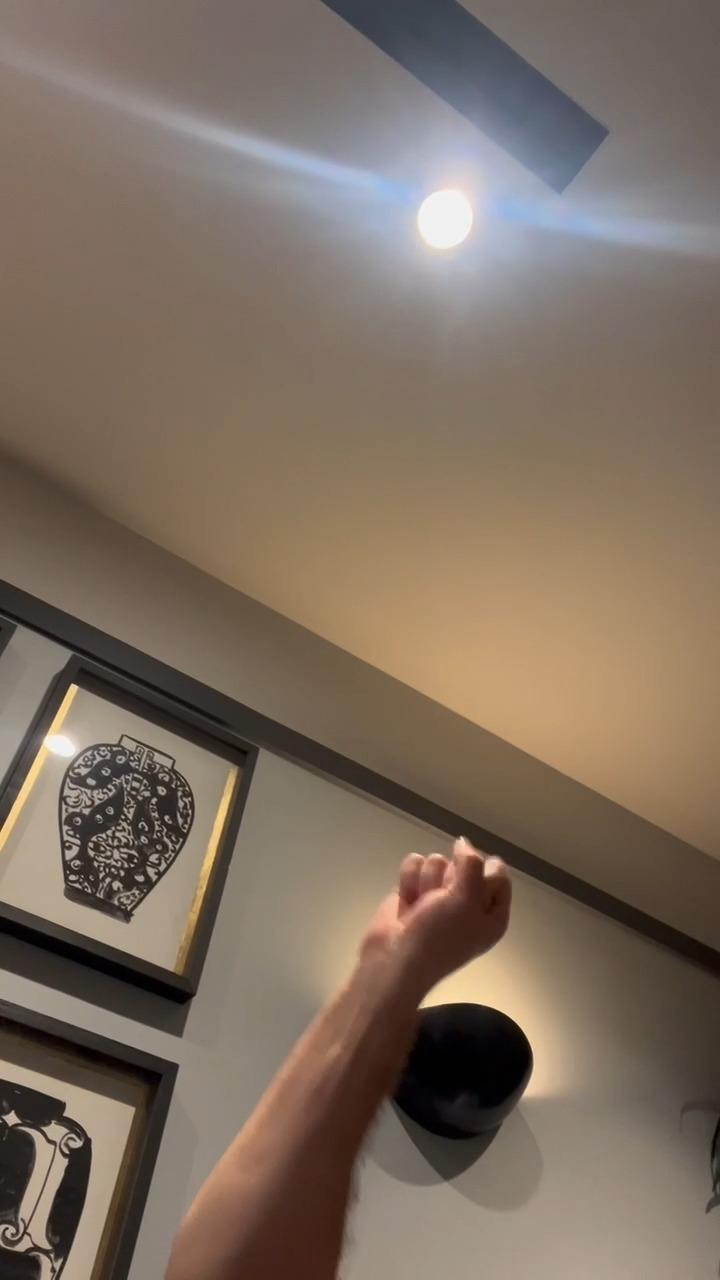Rock: (356, 838, 514, 979)
